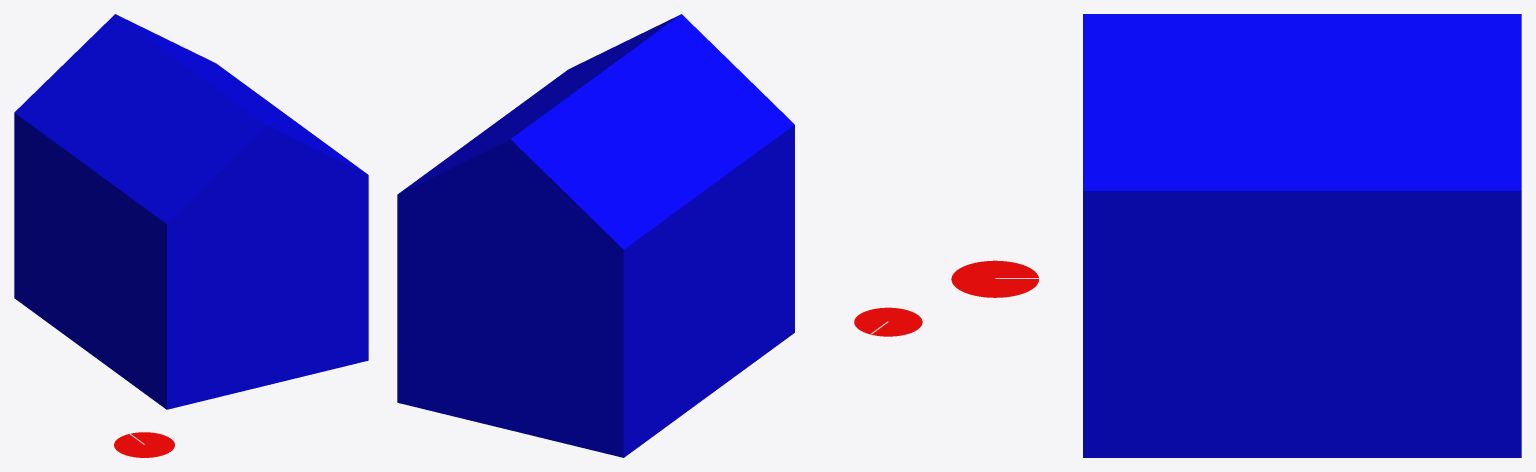
File: result.glb
The picture shows the model from 3 angles, left to right: view 1: azimuth 30°, elevation 25°; view 2: azimuth 150°, elevation 25°; view 3: azimuth 270°, elevation 25°; orthographic projection. The views are drawn at different scales.
Parts seen in each view (by area): view 1: 508092fb-0ec2-4d9c-9b3e-076e4be6e37d__undefined, da231d06-c16f-4cd2-8014-260e72ab664a__Circle; view 2: 508092fb-0ec2-4d9c-9b3e-076e4be6e37d__undefined, da231d06-c16f-4cd2-8014-260e72ab664a__Circle; view 3: 508092fb-0ec2-4d9c-9b3e-076e4be6e37d__undefined, da231d06-c16f-4cd2-8014-260e72ab664a__Circle.
Boxes of the visible parts, x1=… form: 508092fb-0ec2-4d9c-9b3e-076e4be6e37d__undefined: x1=14, y1=14, x2=368, y2=409; da231d06-c16f-4cd2-8014-260e72ab664a__Circle: x1=114, y1=432, x2=174, y2=457; 508092fb-0ec2-4d9c-9b3e-076e4be6e37d__undefined: x1=397, y1=14, x2=794, y2=457; da231d06-c16f-4cd2-8014-260e72ab664a__Circle: x1=854, y1=307, x2=922, y2=336; 508092fb-0ec2-4d9c-9b3e-076e4be6e37d__undefined: x1=1083, y1=14, x2=1521, y2=457; da231d06-c16f-4cd2-8014-260e72ab664a__Circle: x1=951, y1=260, x2=1038, y2=297.
Size of the model in its own units: 532 by 469 by 650.
